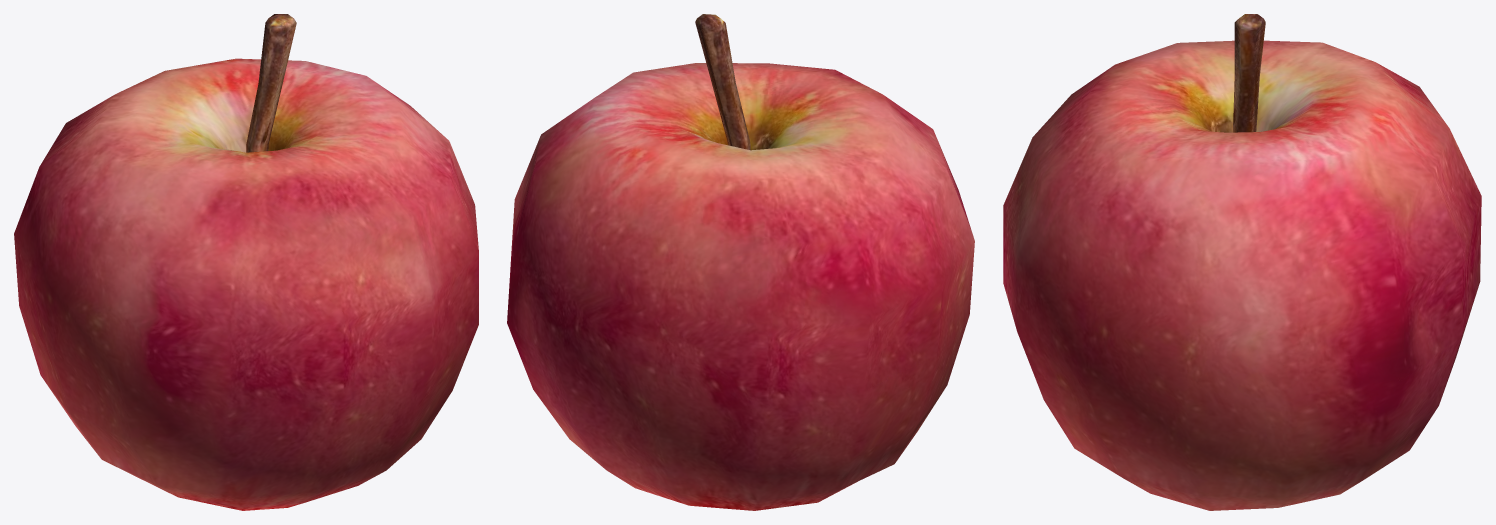
The model's file is m_apple.fbx.
3 renders of one model, left to right at view 1: azimuth 30°, elevation 25°; view 2: azimuth 150°, elevation 25°; view 3: azimuth 270°, elevation 25°, orthographic. The views are drawn at different scales.
Visible parts, largest first — view 1: Apple_1; view 2: Apple_1; view 3: Apple_1.
Part boxes in pixels (left/top/right/bottom): Apple_1: left=14, top=14, right=478, bottom=510; Apple_1: left=507, top=14, right=974, bottom=510; Apple_1: left=1003, top=14, right=1481, bottom=510.
Size of the model in its own units: 443 by 468 by 433.
